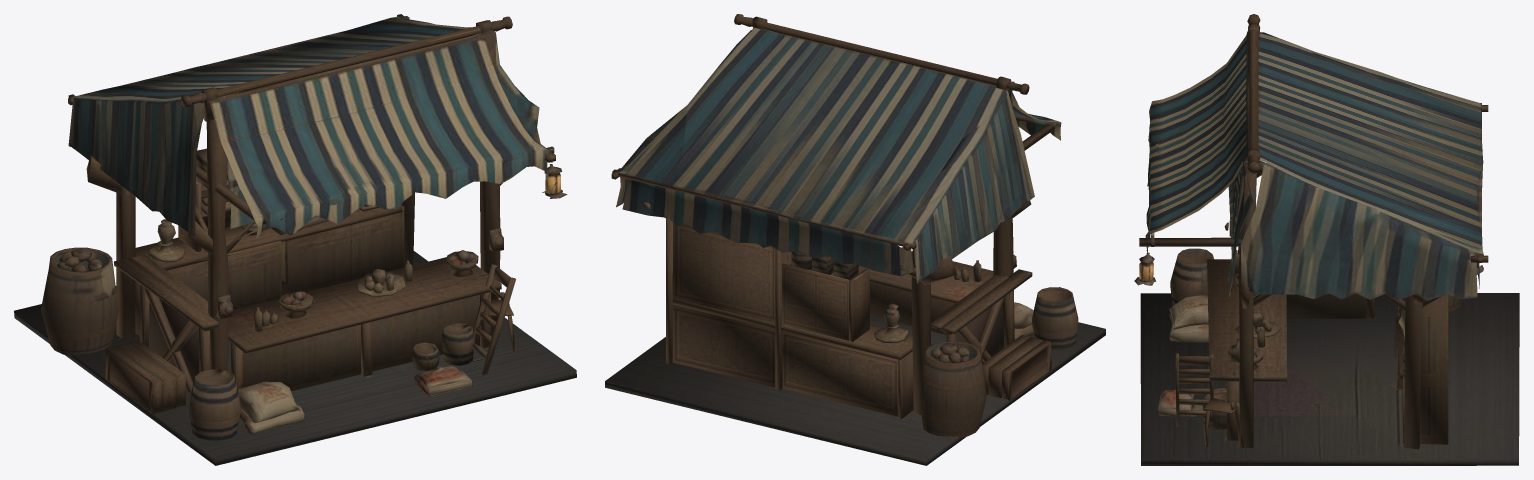
File: market-stall.glb
The picture shows the model from 3 angles, left to right: view 1: azimuth 30°, elevation 25°; view 2: azimuth 150°, elevation 25°; view 3: azimuth 270°, elevation 25°; orthographic projection. The views are drawn at different scales.
Size of the model in its own units: 0.9653 by 0.7622 by 0.8774.
1 material, 1 textured.
